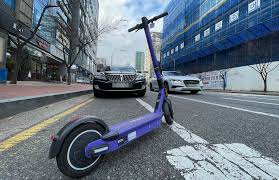kick_board: (50, 12, 175, 175)
kick_body: (111, 111, 162, 141)
kick_handler: (128, 12, 169, 32)
kick_wheel: (47, 114, 106, 179), (162, 100, 174, 124)
